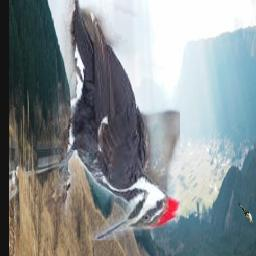Cuckoo: (237, 199, 254, 222)
Woodpecker: (48, 0, 180, 241)
